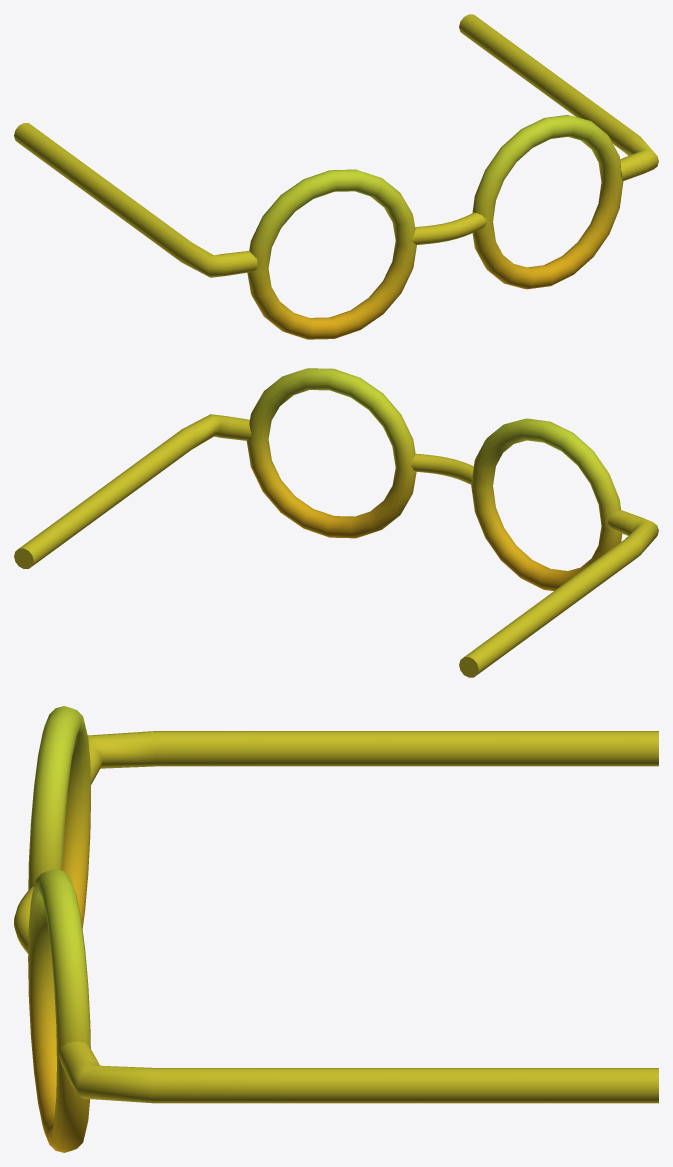
Rendered from glass3.fbx.
The picture shows the model from 3 angles, top to bottom: view 1: azimuth 30°, elevation 25°; view 2: azimuth 150°, elevation 25°; view 3: azimuth 270°, elevation 25°; orthographic projection. The views are drawn at different scales.
Visible parts, largest first — view 1: NurbsPath.009; view 2: NurbsPath.009; view 3: NurbsPath.009.
Part boxes in pixels (left/top/right/bottom): NurbsPath.009: left=14, top=14, right=658, bottom=339; NurbsPath.009: left=14, top=368, right=658, bottom=677; NurbsPath.009: left=14, top=706, right=658, bottom=1152.
Bounding box in the file's own units: 183 × 236 × 81.02.
